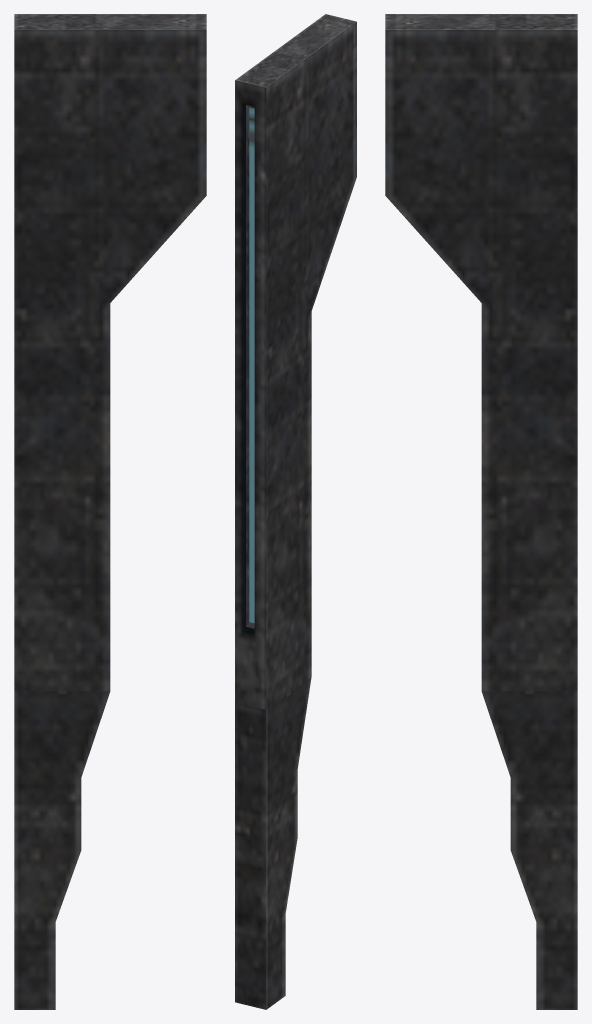
3 views of the same model, side by side, from view 1: azimuth 90°, elevation 25°; view 2: azimuth 150°, elevation 25°; view 3: azimuth 270°, elevation 25° (orthographic). The views are drawn at different scales.
Parts seen in each view (by area): view 1: wj3; view 2: wj3; view 3: wj3.
Boxes of the visible parts, x1,y1,x2,y2 form: wj3: (14, 14, 206, 1009); wj3: (235, 14, 356, 1009); wj3: (385, 14, 577, 1009).
Size of the model in its own units: 36.45 by 1030 by 183.
